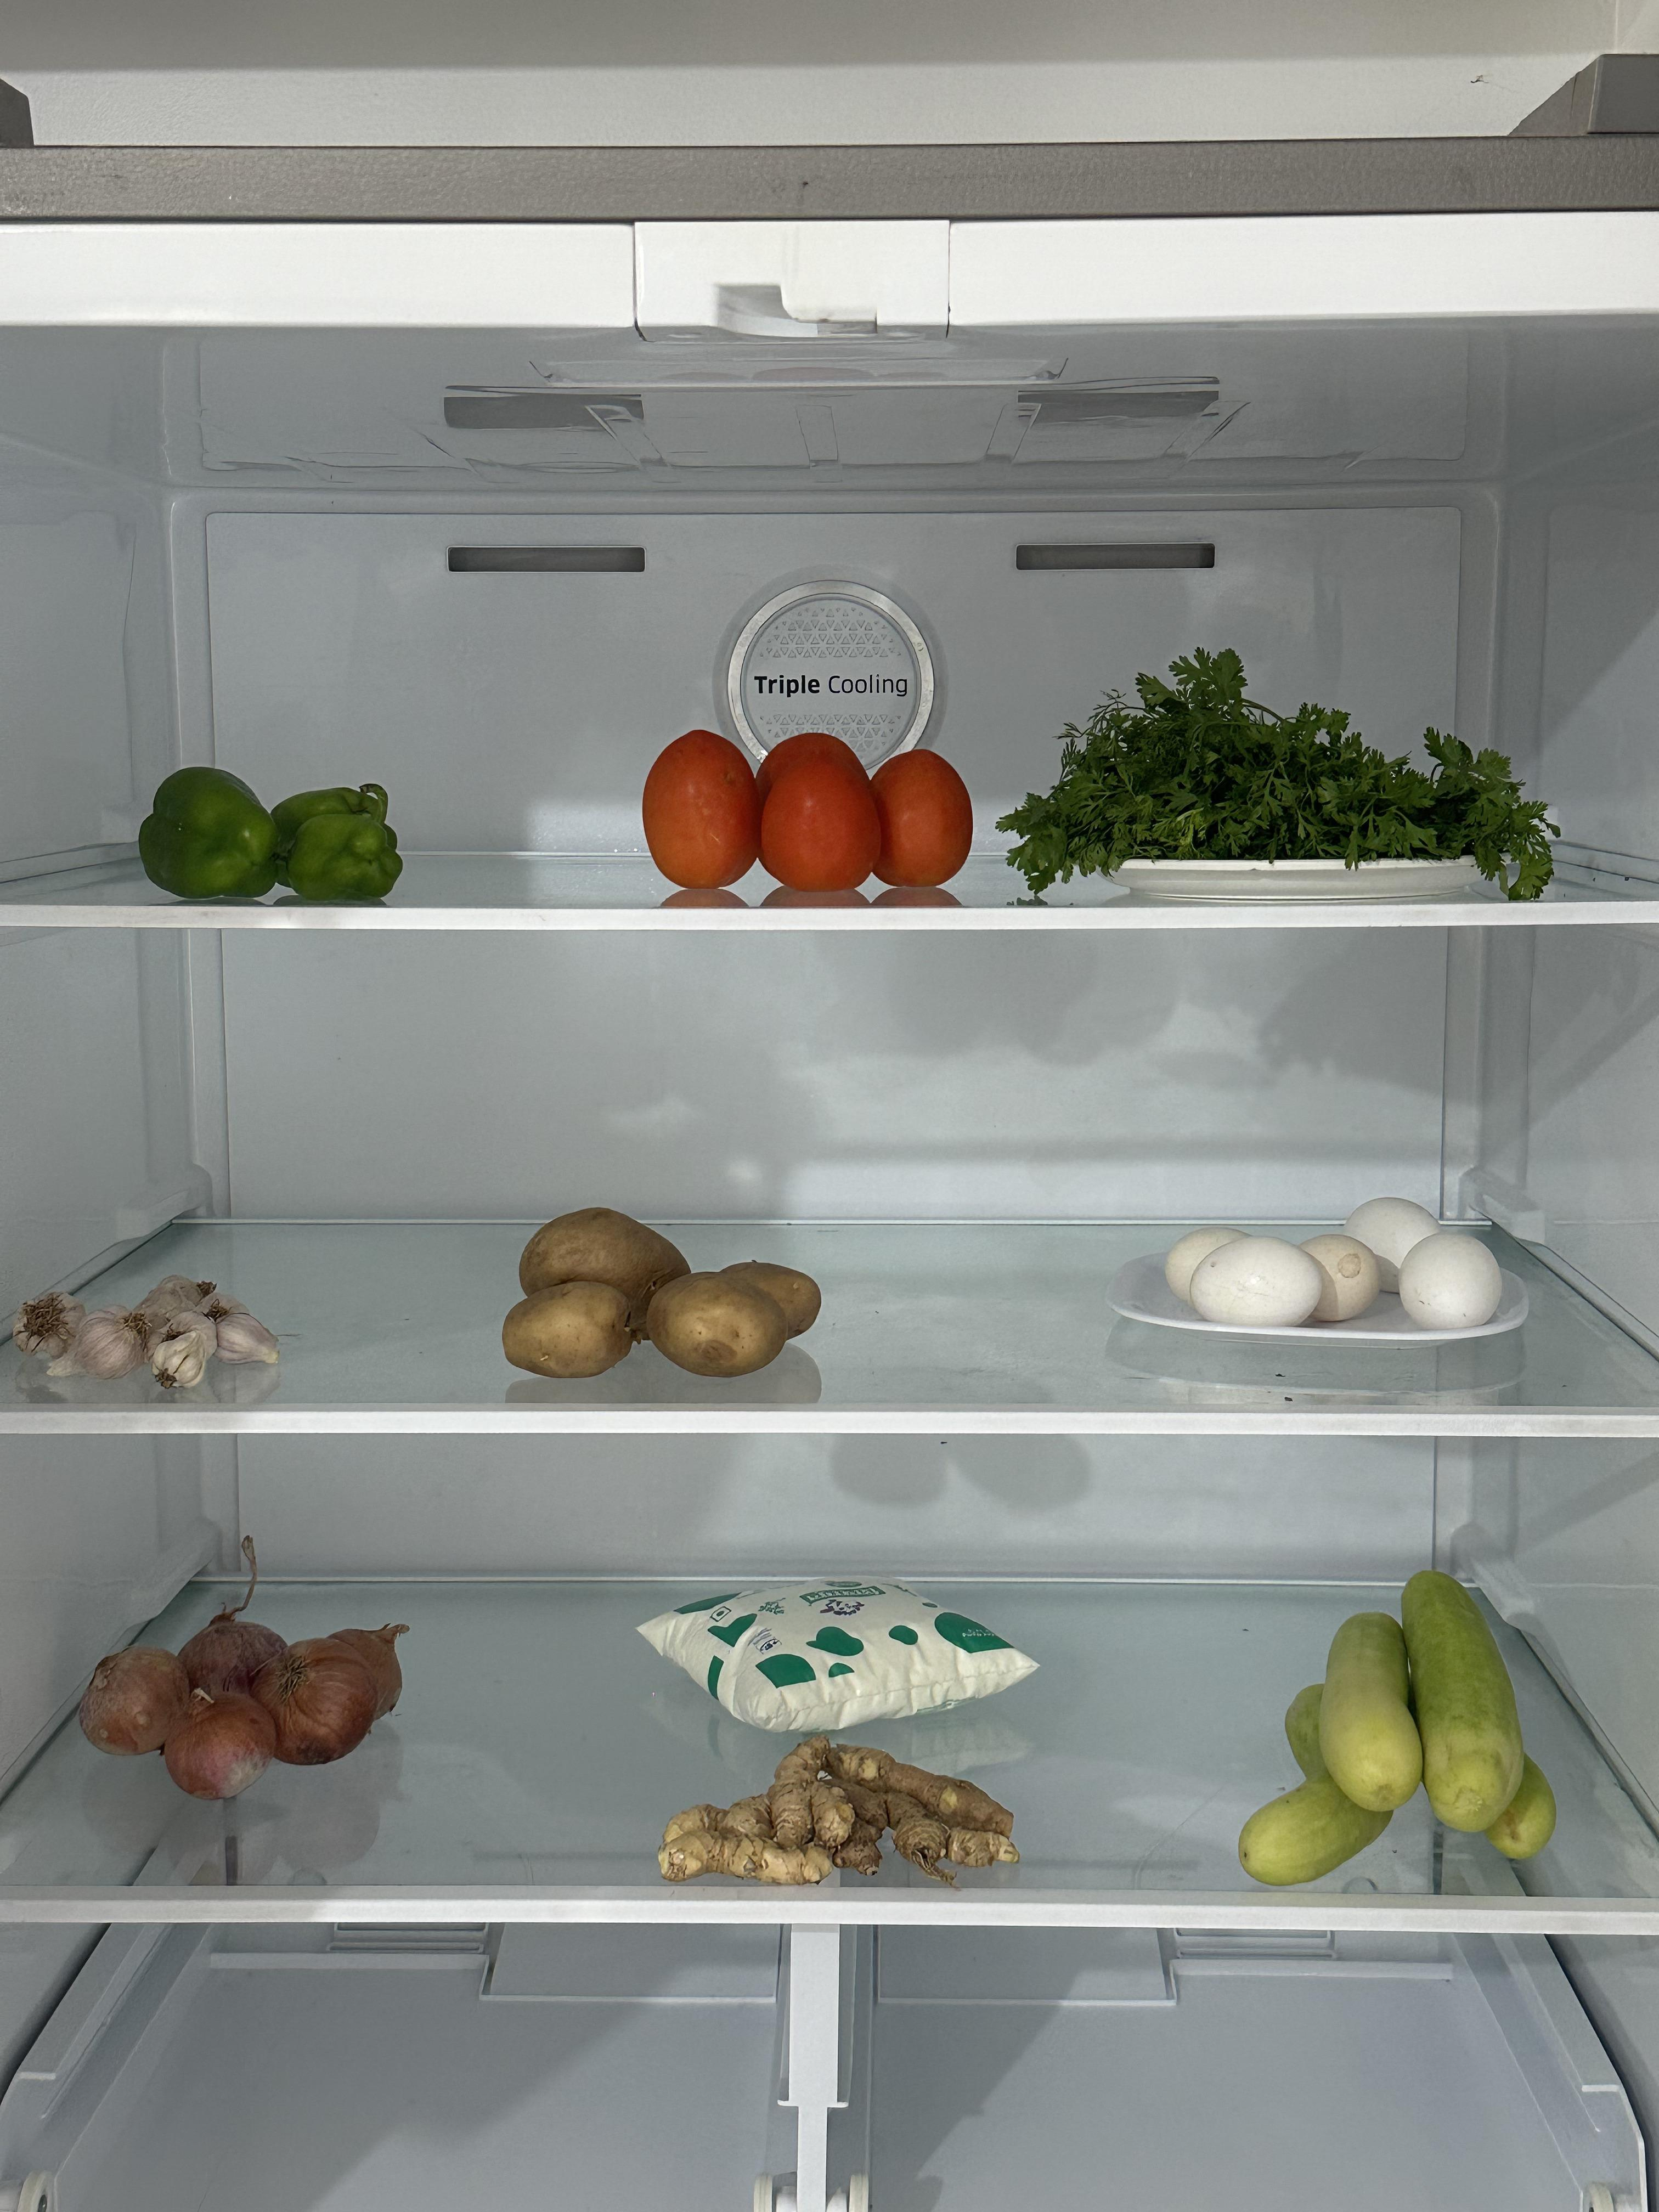capsicum: (131, 751, 408, 911)
coriander: (1025, 679, 1535, 892)
cucumber: (1239, 1564, 1560, 1888)
egg: (1117, 1188, 1527, 1341)
garlic: (7, 1268, 286, 1404)
ginger: (655, 1737, 1016, 1890)
milk: (629, 1575, 1040, 1726)
onion: (63, 1599, 413, 1806)
potato: (502, 1202, 821, 1383)
tomato: (634, 721, 985, 900)
